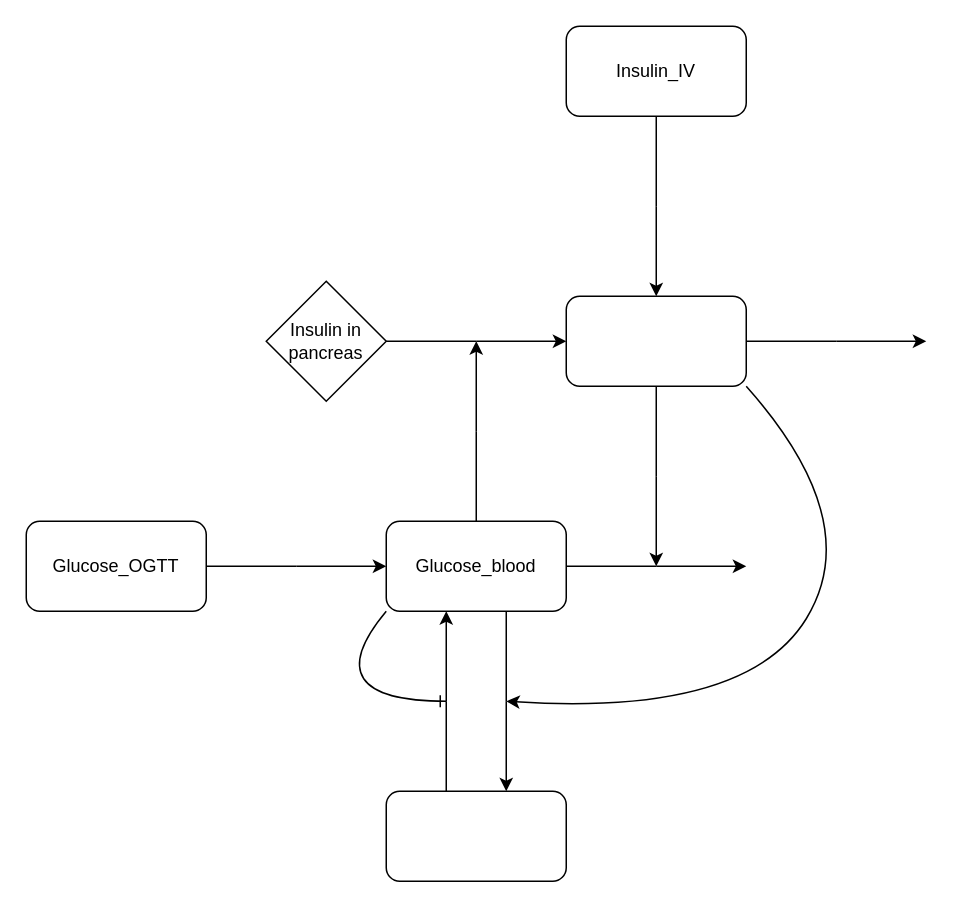
The diagram is 965 pixels wide and 908 high, and some of its shapes have lost their labels. Here are the shapes that lost their labels. From the top down, the centre of each, then its label:
(x=655, y=340): Insulin_blood
(x=475, y=835): Glucose_liver
